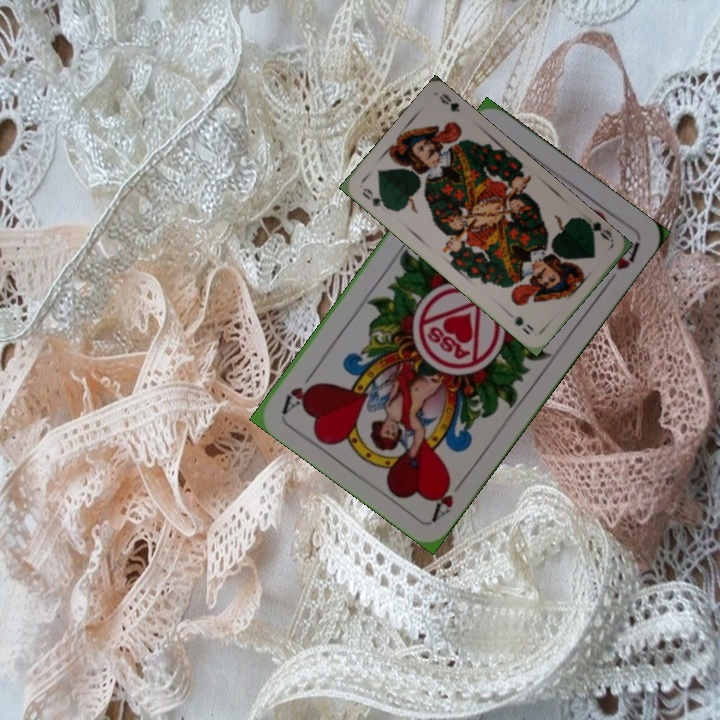GO: (580, 215, 615, 244), (358, 184, 393, 213)
HA: (428, 472, 469, 523)
